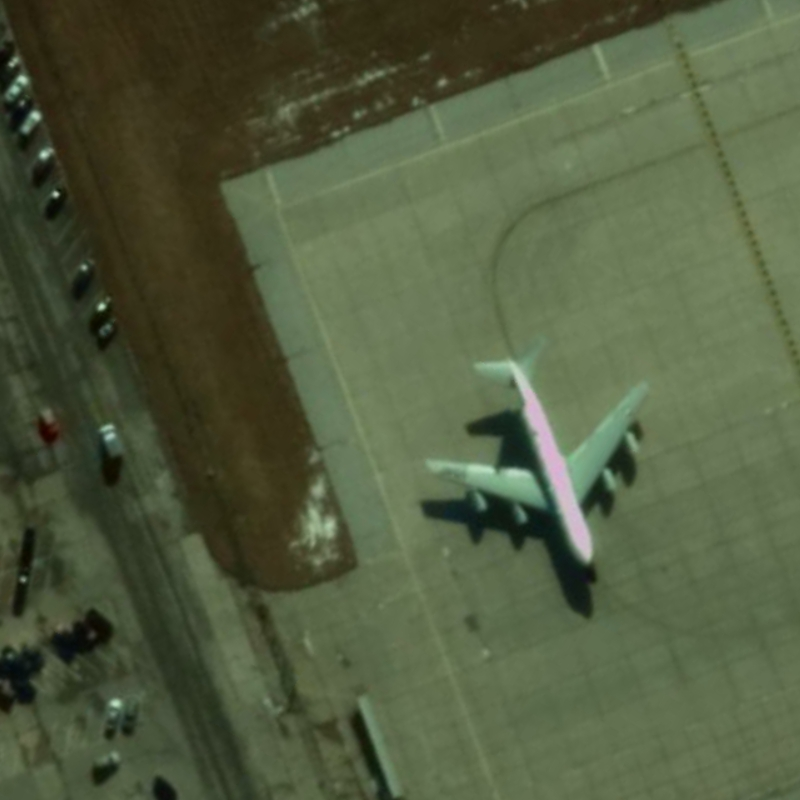A11: (415, 325, 660, 593)
